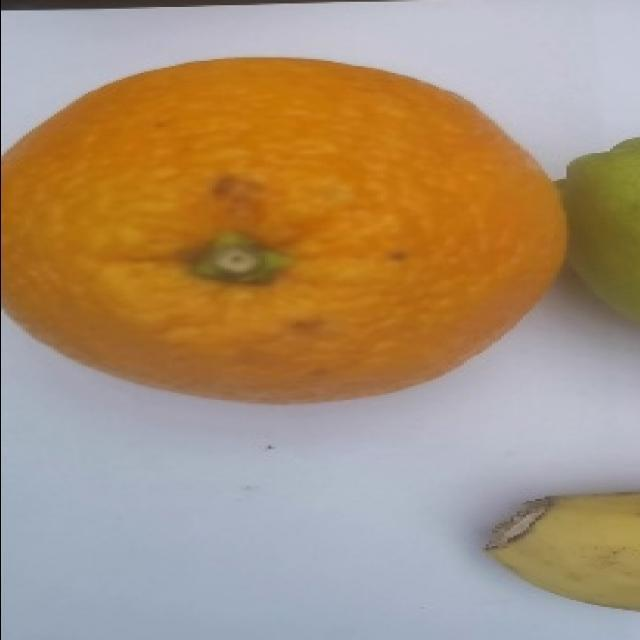Banana: (483, 490, 639, 612)
Orange: (1, 55, 568, 404)
